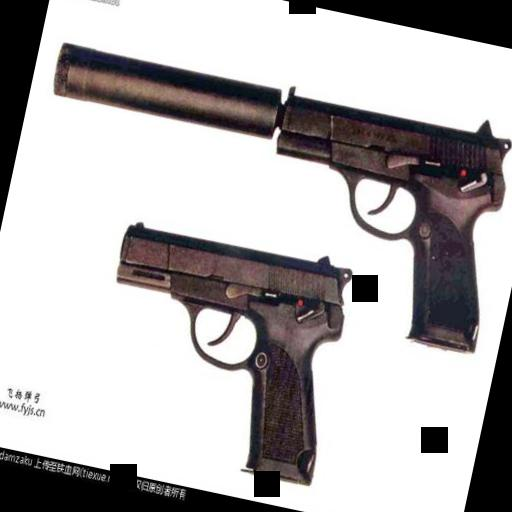Handgun: (78, 214, 364, 486), (238, 81, 512, 355)
